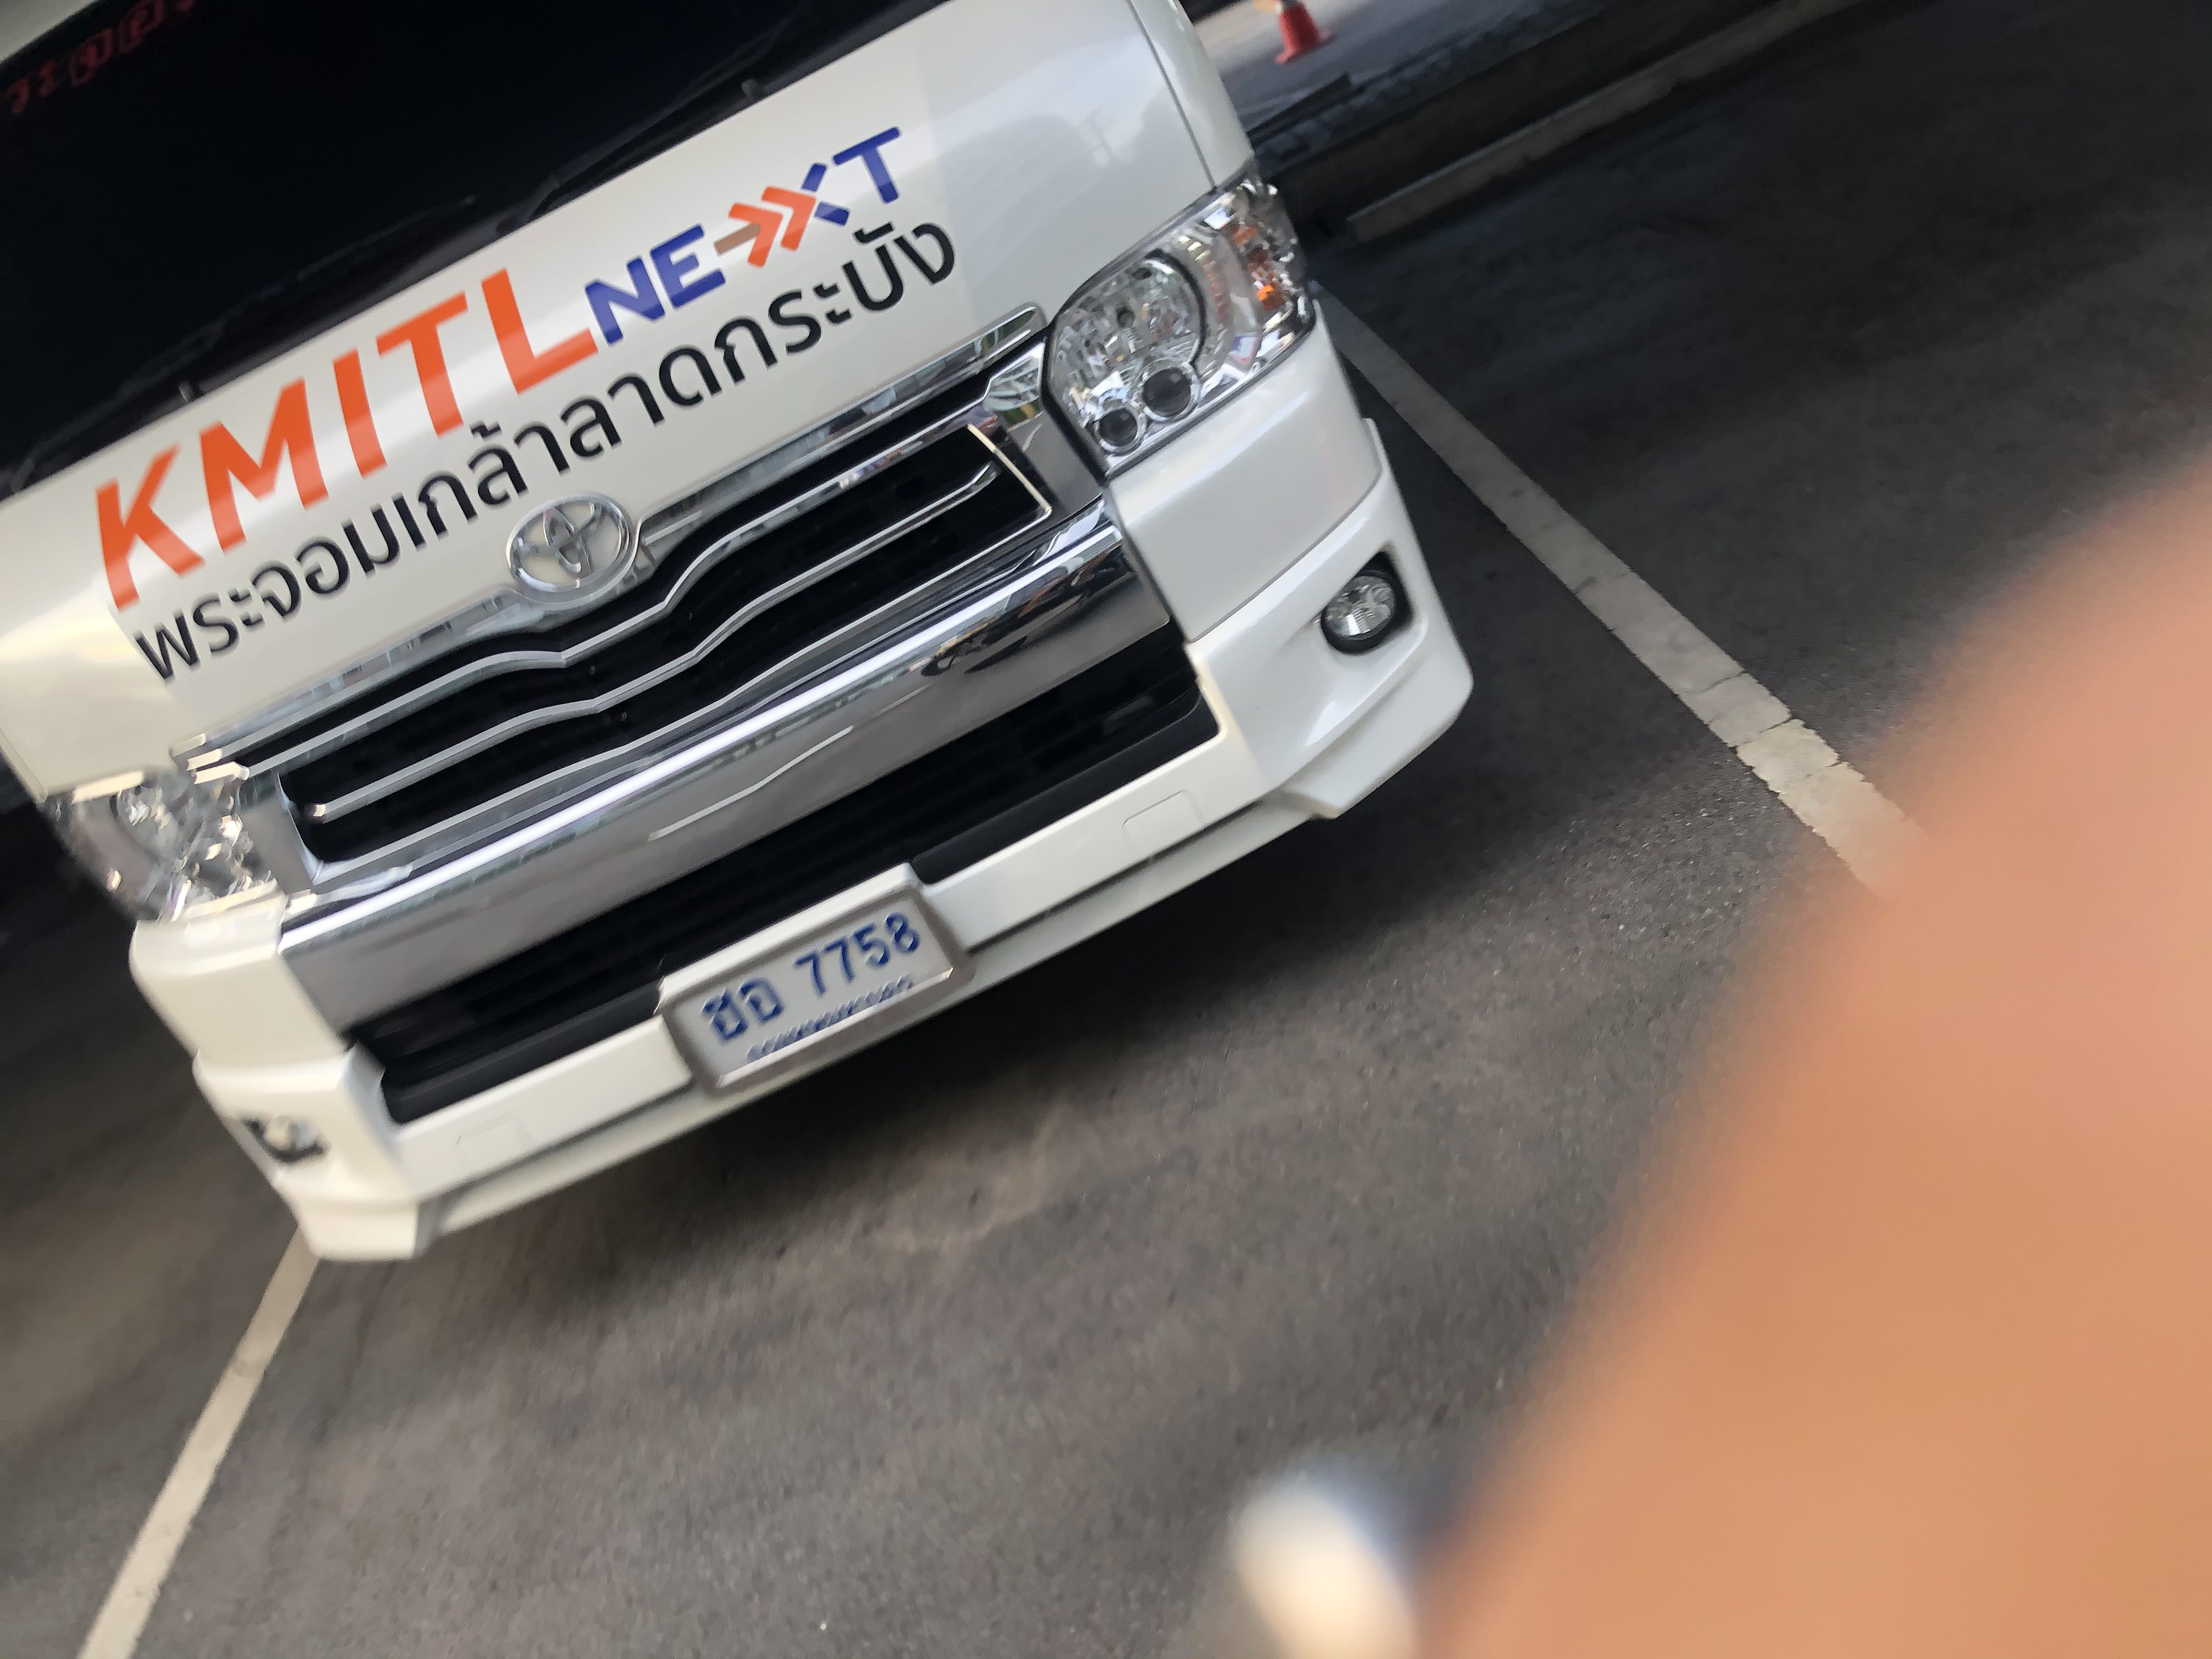in: (674, 896, 954, 1086)
out: (658, 884, 977, 1105)
